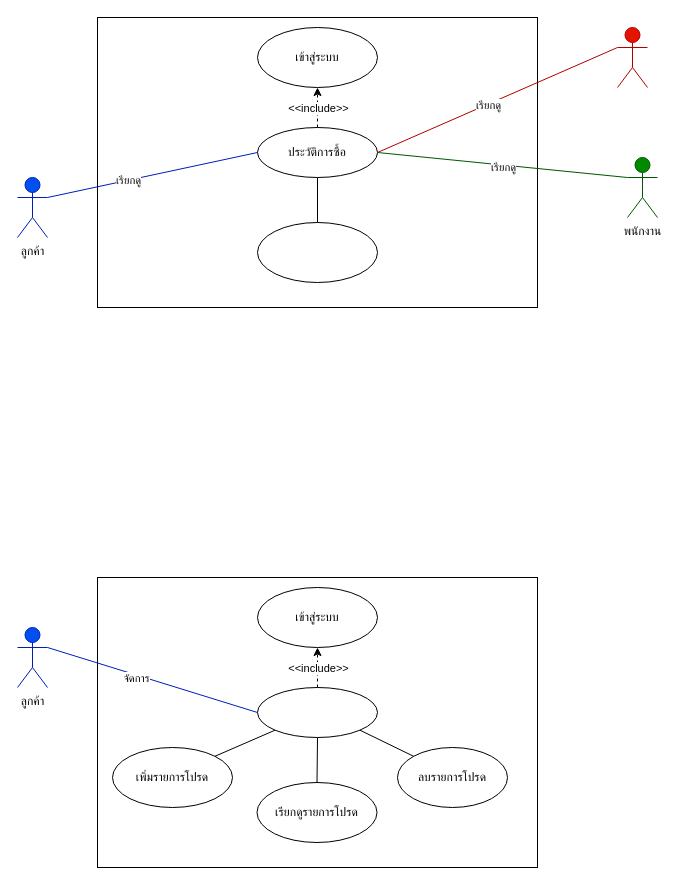
The diagram is 679 pixels wide and 885 high, and some of its shapes have lost their labels. Here are the shapes that lost their labels. From the top down, the centre of each, then its label:
pixel 632 57: ผู้จัดการ
pixel 317 252: เรียกดูประวัติการซื้อ
pixel 317 712: รายการโปรด
